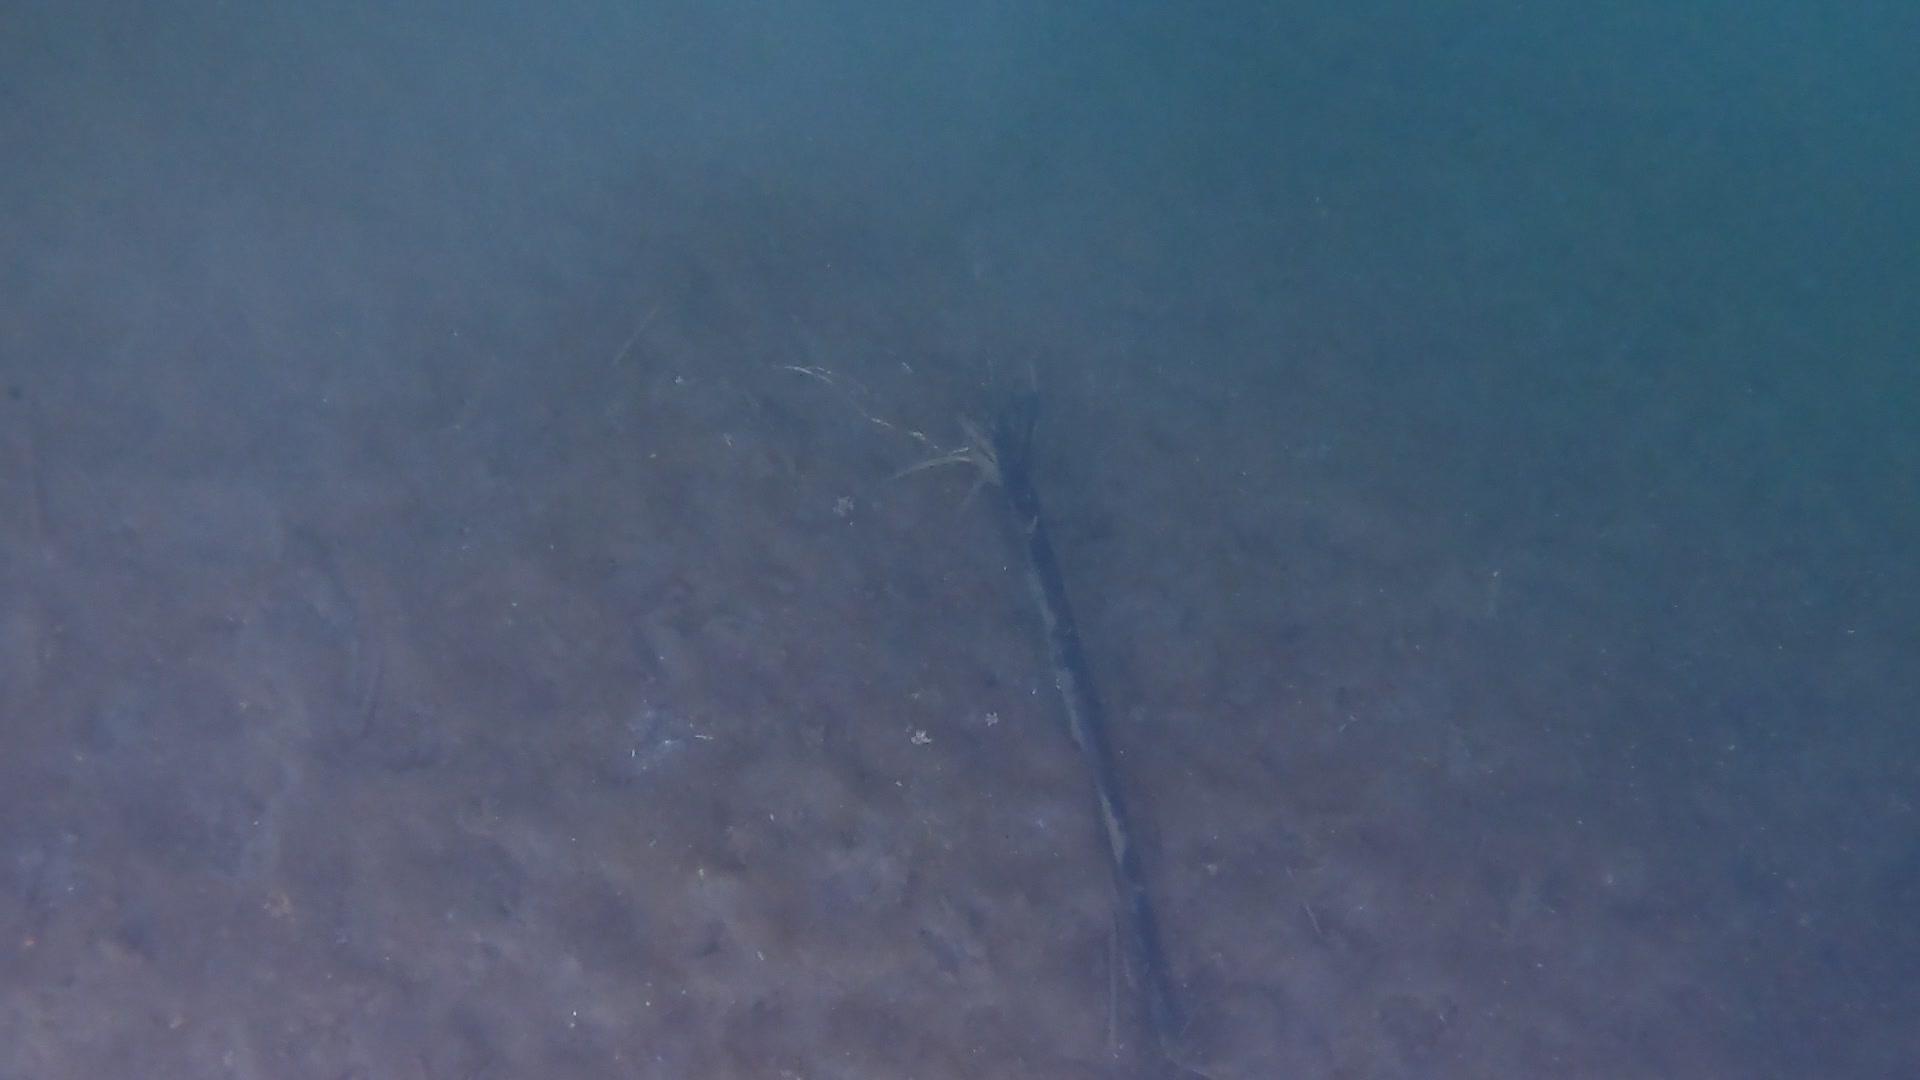wood: (961, 410, 1189, 1080)
